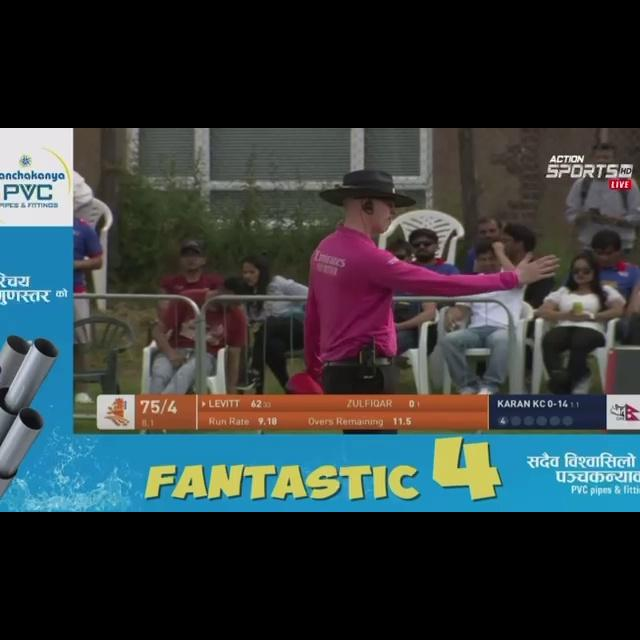umpire: (241, 158, 587, 399)
